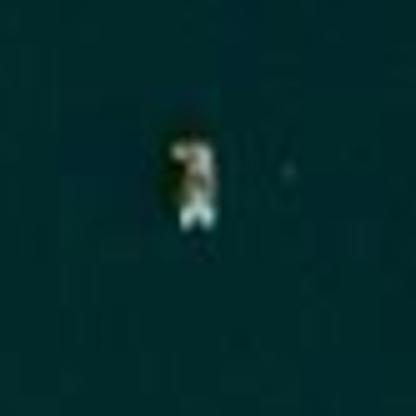ship: (160, 109, 230, 245)
